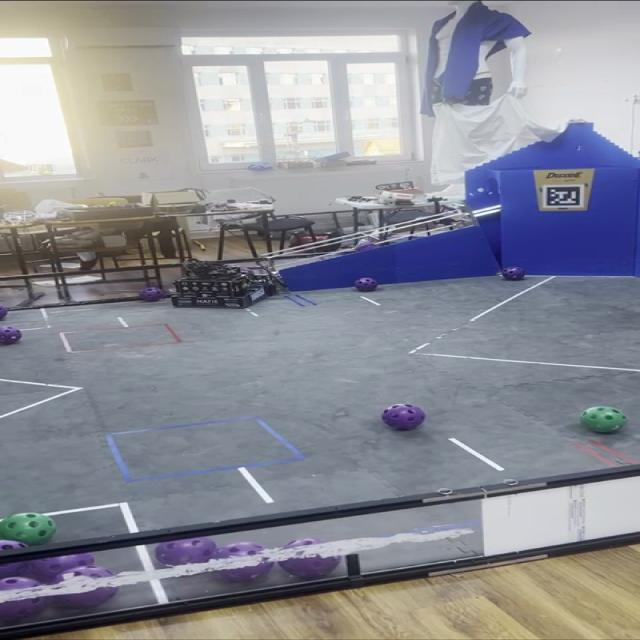artifact_green: (0, 513, 55, 545), (580, 407, 626, 433)
artifact_purple: (28, 554, 94, 583), (155, 538, 217, 566), (279, 555, 341, 577), (55, 587, 117, 608), (382, 404, 426, 430), (0, 598, 45, 622), (220, 561, 273, 581), (0, 562, 26, 578), (0, 327, 22, 345), (139, 288, 165, 302), (502, 267, 525, 281), (355, 278, 378, 292), (356, 241, 377, 251), (0, 306, 7, 320)
